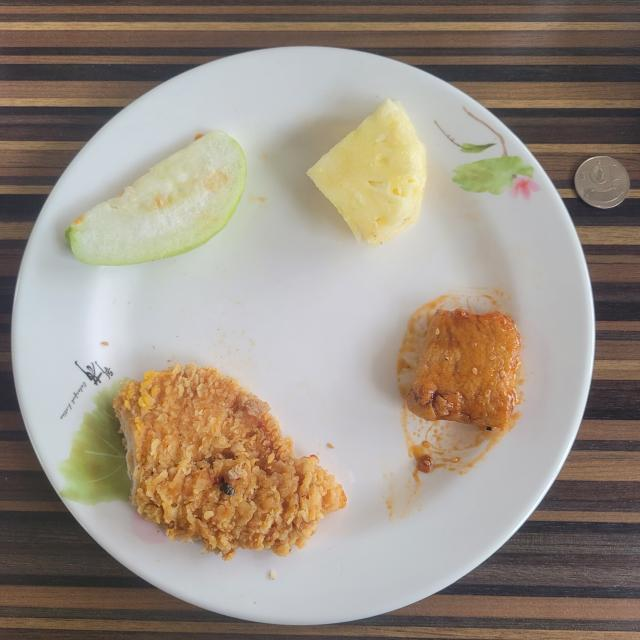coin: (575, 156, 630, 209)
creamy tofu: (406, 309, 520, 429)
fried chicken cutlet: (114, 364, 346, 560)
guava -sliced-: (65, 131, 246, 265)
pineapple: (308, 99, 428, 246)
